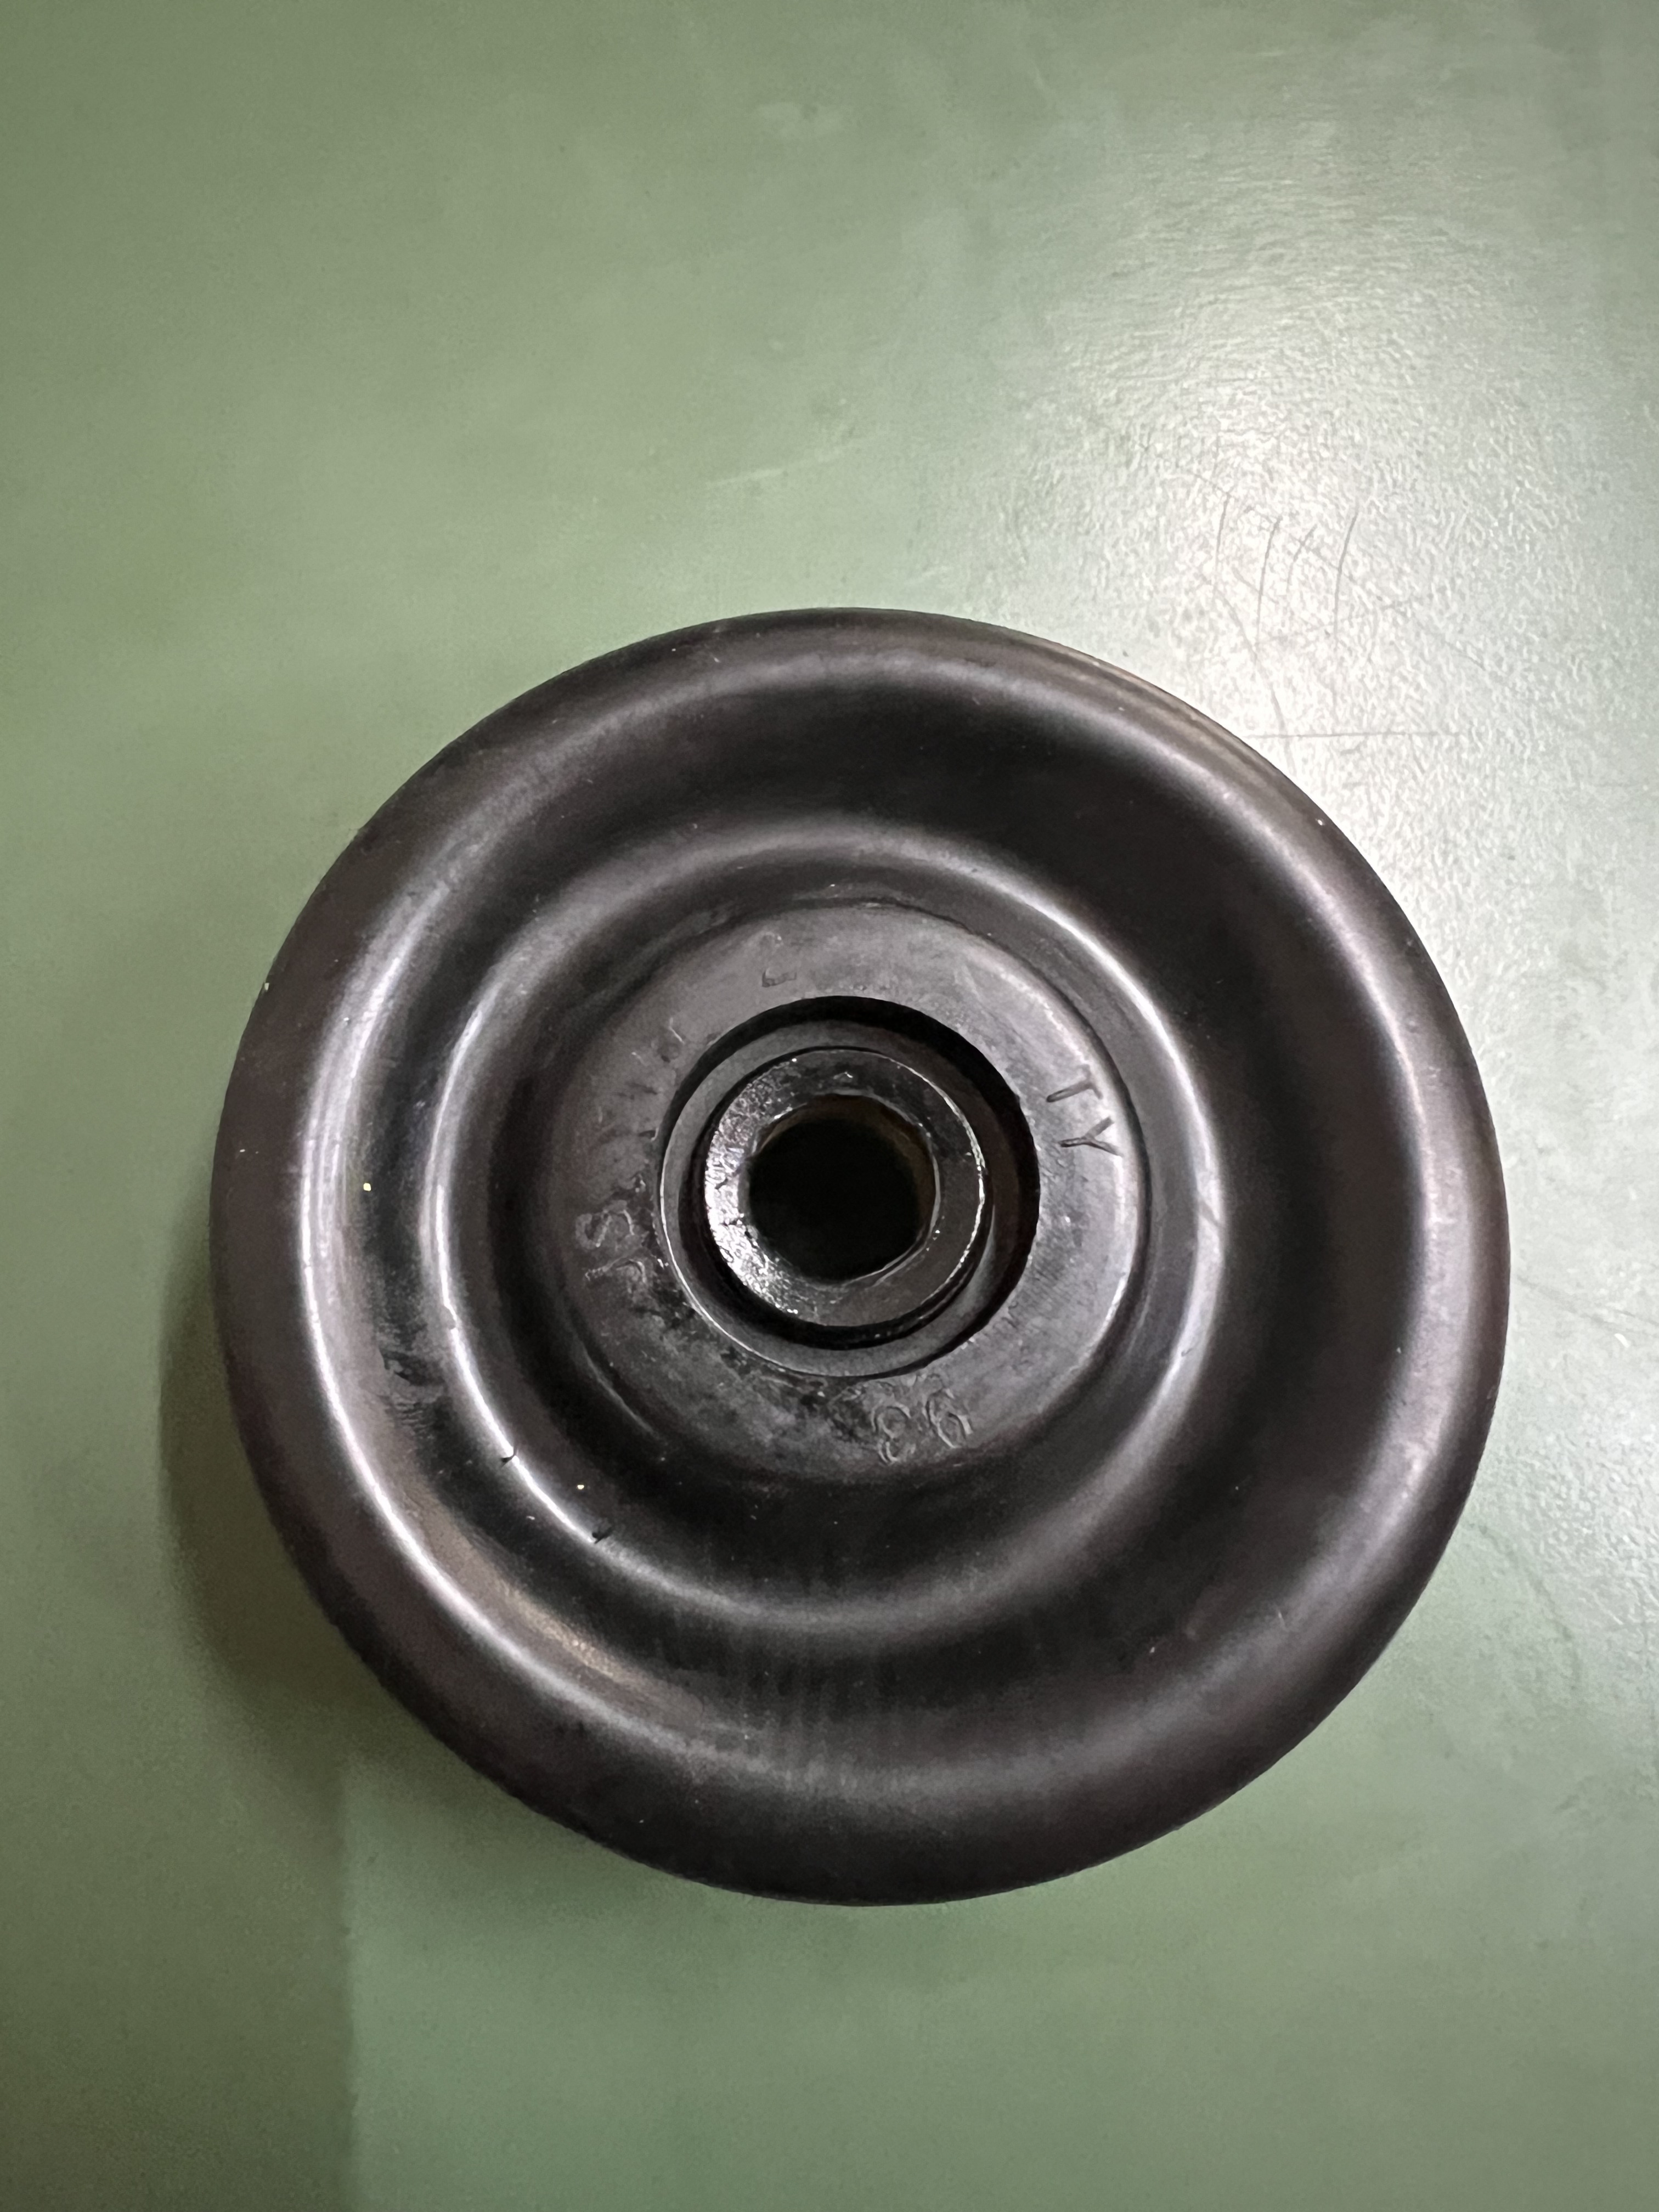lever: (195, 629, 1511, 1893)
